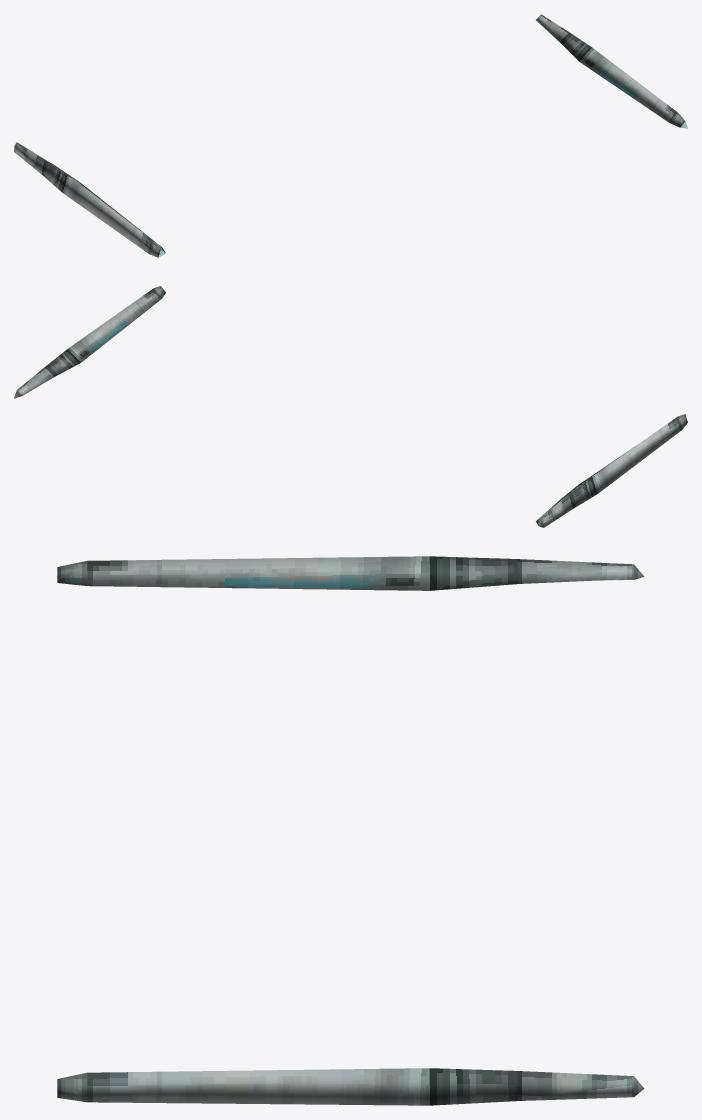
File: hutt_fighter_medium_weapon1_s02_l3.fbx
3 renders of one model, top to bottom at view 1: azimuth 30°, elevation 25°; view 2: azimuth 150°, elevation 25°; view 3: azimuth 270°, elevation 25°, orthographic. The views are drawn at different scales.
Visible parts, largest first — view 1: mesh_node; view 2: mesh_node; view 3: mesh_node.
Part boxes in pixels (x1,y1,x2,y2): mesh_node: (14, 14, 687, 257); mesh_node: (14, 286, 687, 527); mesh_node: (57, 556, 644, 1105).
Size of the model in its own units: 13.63 by 0.3955 by 6.48.
Materials: 1 (1 with a texture image).
